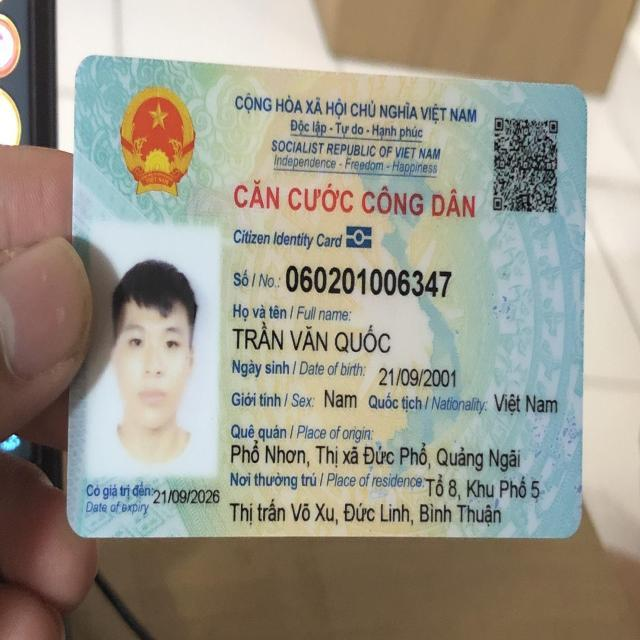current_place: (227, 497, 504, 528), (422, 473, 550, 501)
dob: (376, 360, 458, 394)
expire_date: (151, 487, 224, 510)
gender: (317, 385, 357, 415)
id: (283, 262, 463, 304)
name: (222, 318, 394, 354)
nationality: (492, 386, 567, 420)
origin_place: (219, 440, 523, 473)
qr: (488, 106, 564, 222)
